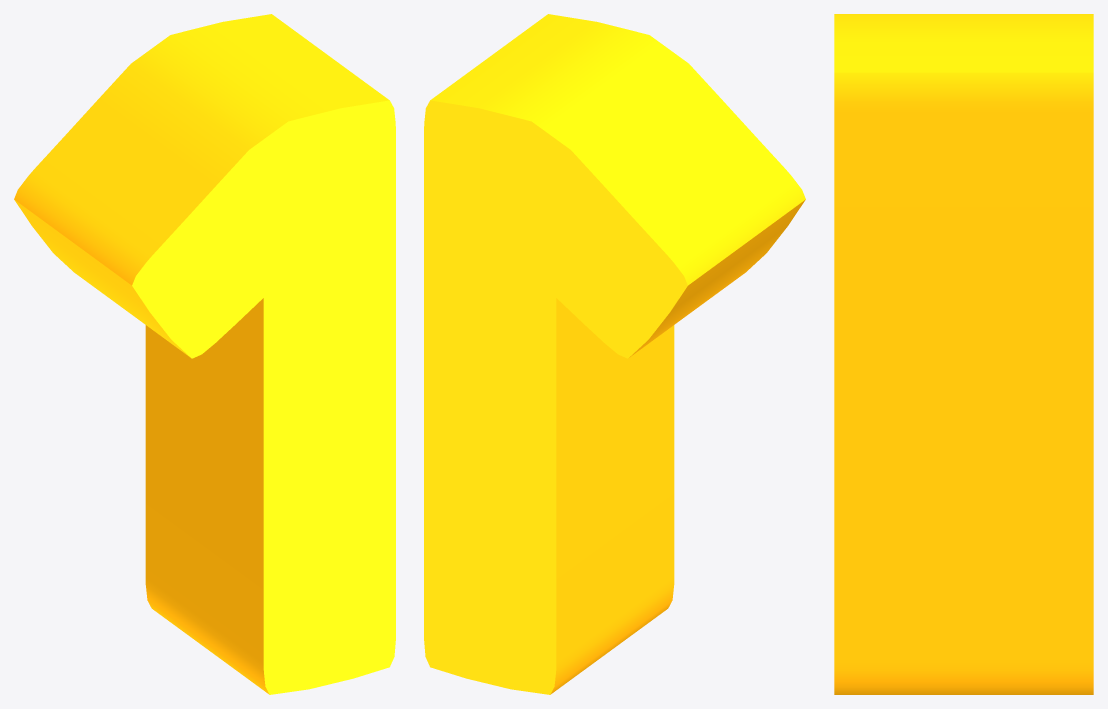
Rendered from ccf5e768-b195-42a1-9668-3530be04a4f4.glb.
The picture shows the model from 3 angles, left to right: view 1: azimuth 30°, elevation 25°; view 2: azimuth 150°, elevation 25°; view 3: azimuth 270°, elevation 25°; orthographic projection. The views are drawn at different scales.
Visible parts, largest first — view 1: 1_Zyzol_Yellow; view 2: 1_Zyzol_Yellow; view 3: 1_Zyzol_Yellow.
Part boxes in pixels (box(x1,y1,x2,y2)): 1_Zyzol_Yellow: box(14, 14, 395, 694); 1_Zyzol_Yellow: box(424, 14, 805, 694); 1_Zyzol_Yellow: box(834, 14, 1093, 694).
Size of what is drawn, in the model's own units: 0.0581 by 0.1206 by 0.045.
2 materials, 2 textured.
